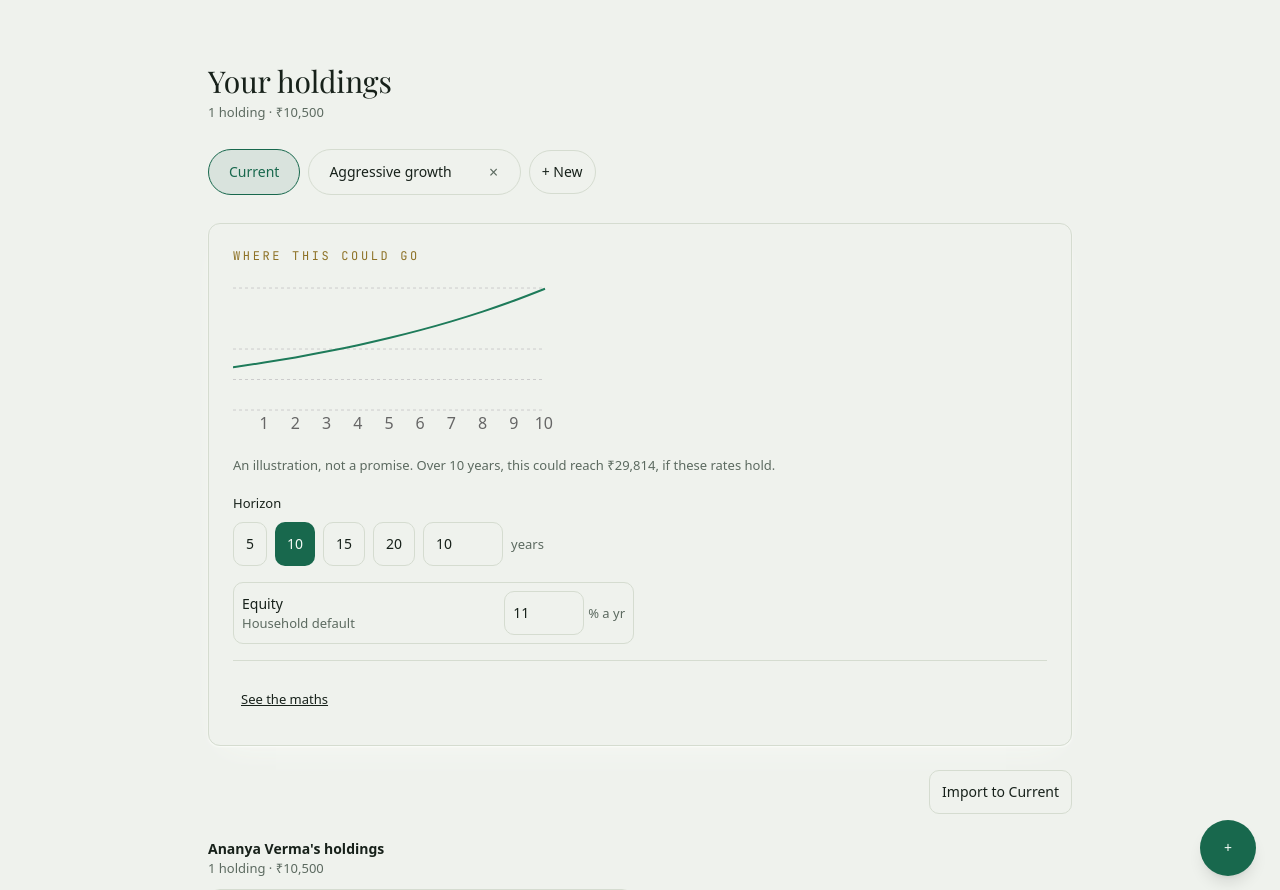
Portfolio › names the locked vault when it locks mid-session and the user switches ledger tabs
The width and height of the screenshot is (1280, 890).
Click the tab "Aggressive growth".
click(391, 172)  # box left=313, top=150, right=468, bottom=194
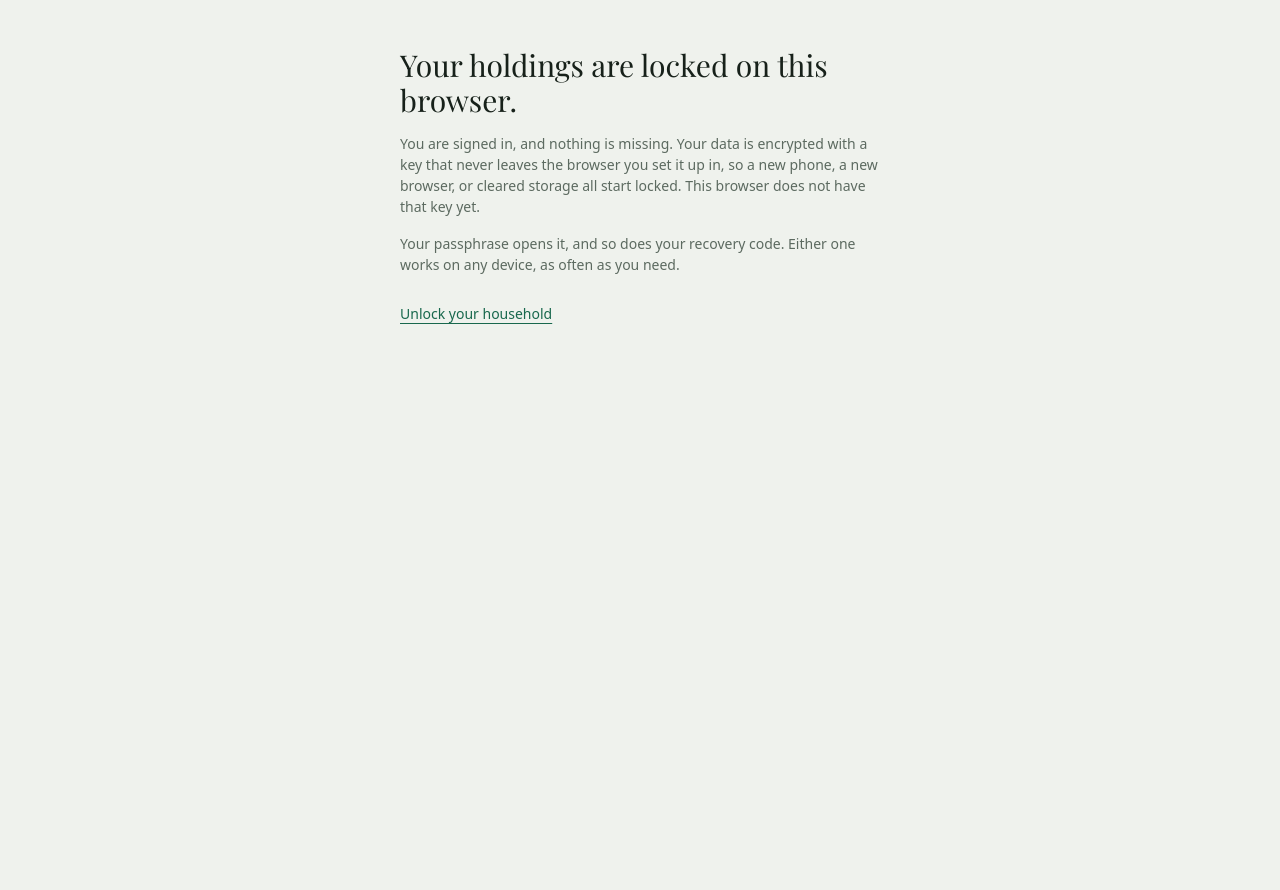
Now the link "Unlock your household" is shown, box left=400, top=304, right=552, bottom=322
Now the text "₹" is gone
